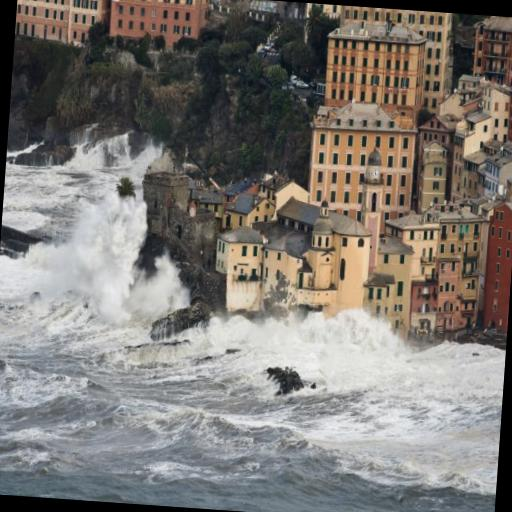flood: (0, 134, 506, 512)
house: (310, 108, 418, 214), (322, 22, 425, 110), (110, 0, 206, 36), (302, 206, 344, 286), (213, 221, 263, 285), (342, 6, 450, 34), (366, 266, 414, 324), (486, 200, 512, 305), (15, 0, 103, 31), (472, 15, 512, 78), (391, 216, 441, 266), (440, 224, 482, 274), (481, 79, 512, 142), (226, 188, 276, 224), (481, 143, 512, 198), (420, 118, 454, 156)
